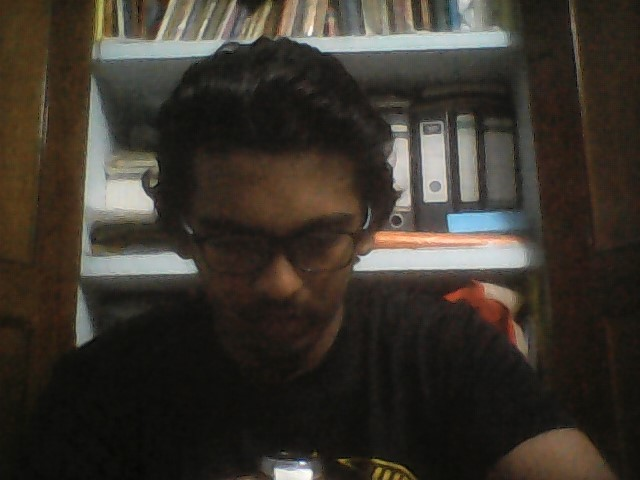person: (53, 34, 534, 480)
smartwatch: (222, 441, 345, 480)
